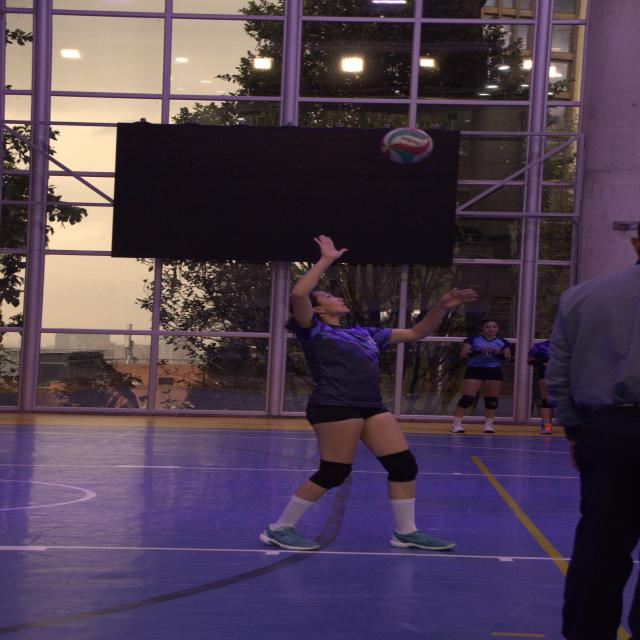volleyball: (380, 126, 436, 164)
